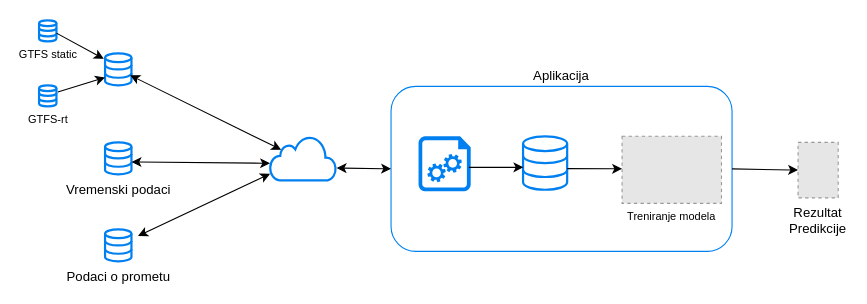
Some shapes in this 867 by 304 pixel diagram are drawn without their labels. Grey dashed boxes stand in for pictures. The box of each missing label's shape, as (x1, y1, x2, y2) in pixels:
Interna baza: (521, 135, 568, 190)
Obrada podataka: (418, 136, 470, 191)
REST API: (268, 135, 337, 181)
ZET podaci: (103, 52, 132, 86)
